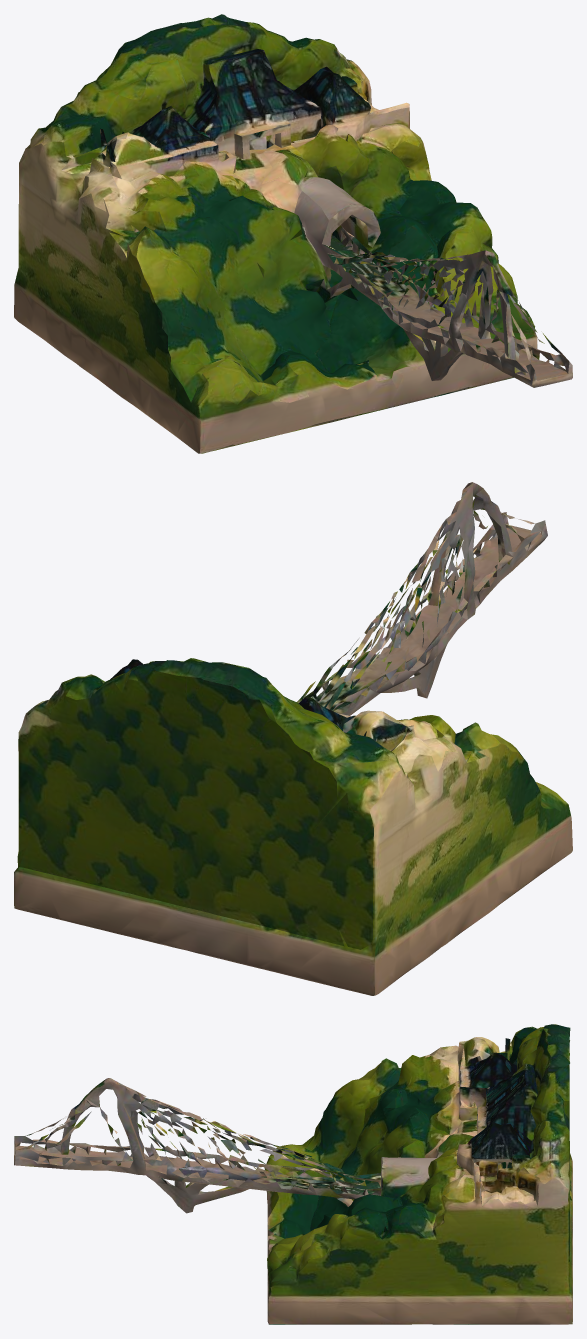
File: miho-museum.glb
The picture shows the model from 3 angles, top to bottom: view 1: azimuth 30°, elevation 25°; view 2: azimuth 150°, elevation 25°; view 3: azimuth 270°, elevation 25°; orthographic projection. The views are drawn at different scales.
Parts seen in each view (by area): view 1: logan-textured.obj; view 2: logan-textured.obj; view 3: logan-textured.obj.
Part boxes in pixels (bbox=[...]): logan-textured.obj: bbox=[14, 14, 572, 453]; logan-textured.obj: bbox=[14, 482, 572, 995]; logan-textured.obj: bbox=[14, 1024, 572, 1324].
Size of the model in its own units: 0.5749 by 0.4298 by 1.
Materials: 1 (1 with a texture image).
